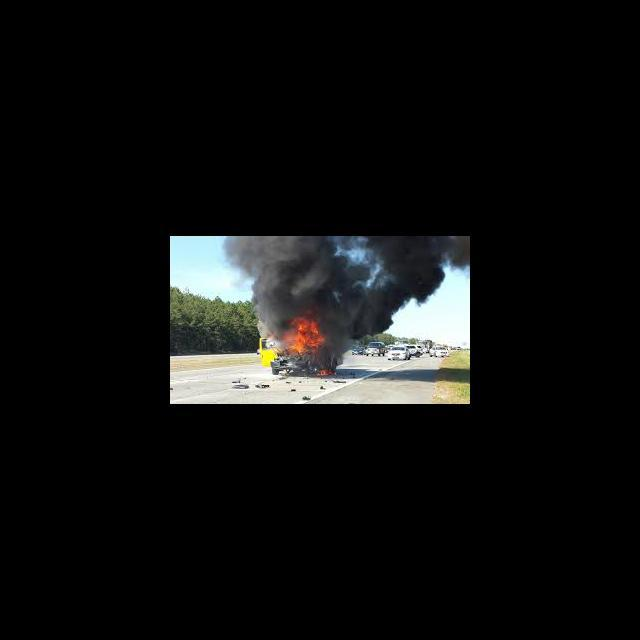Fire: (282, 313, 326, 356)
Smoke: (221, 238, 468, 311), (328, 314, 392, 358), (256, 312, 280, 339)
